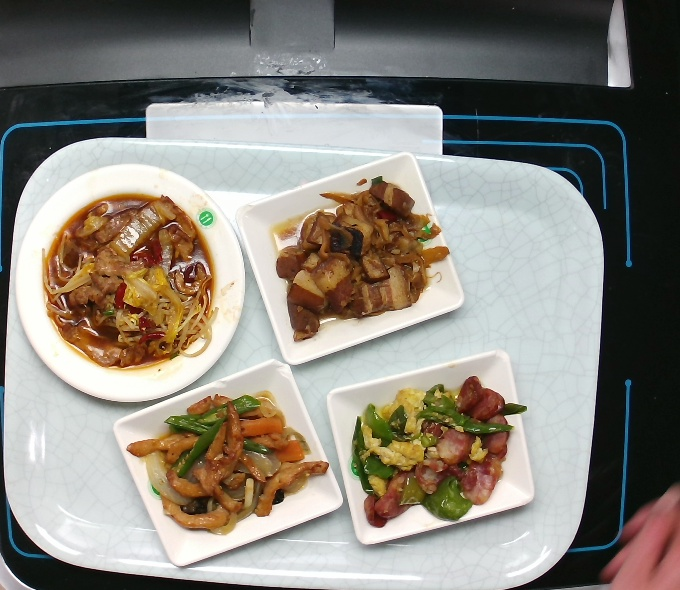wcq-HongShaoRou: (277, 174, 452, 344)
wcq-QingJiaoJiDanChaoDaChang: (346, 371, 528, 527)
wcq-QingJiaoRouSi: (124, 393, 329, 538)
wcq-ShuiZhuRouPian: (40, 190, 216, 372)
